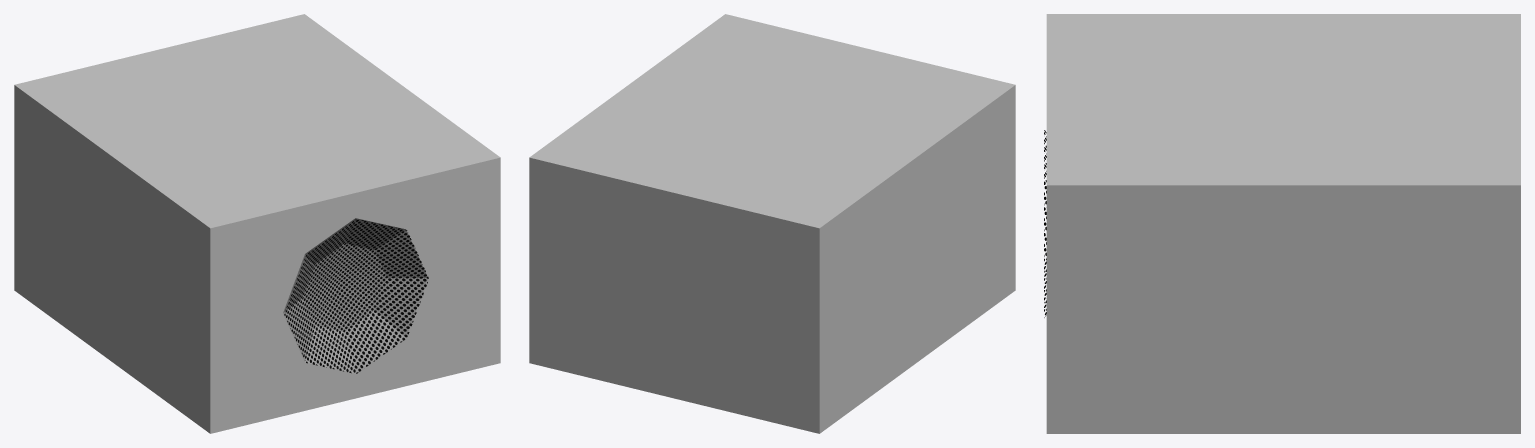
Rendered from Itr_Obj_Speaker1_Top_01.FBX.
3 renders of one model, left to right at view 1: azimuth 30°, elevation 25°; view 2: azimuth 150°, elevation 25°; view 3: azimuth 270°, elevation 25°, orthographic. The views are drawn at different scales.
Parts seen in each view (by area): view 1: Itr_Obj_Speaker1_Top_01; view 2: Itr_Obj_Speaker1_Top_01; view 3: Itr_Obj_Speaker1_Top_01.
Boxes of the visible parts, bbox=[...] form: Itr_Obj_Speaker1_Top_01: bbox=[14, 14, 500, 433]; Itr_Obj_Speaker1_Top_01: bbox=[529, 14, 1015, 433]; Itr_Obj_Speaker1_Top_01: bbox=[1044, 14, 1520, 433].
Bounding box in the file's own units: 9.88 × 6.69 × 11.62.
